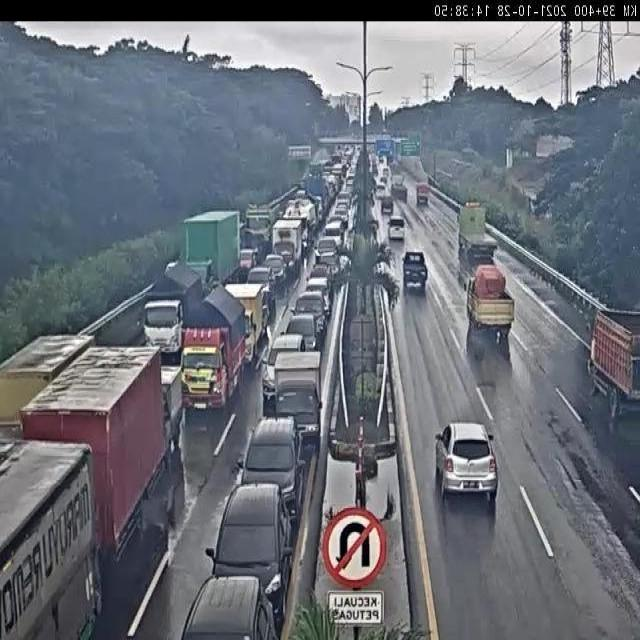Car: (206, 483, 295, 634), (237, 417, 304, 518), (179, 574, 281, 640), (434, 420, 498, 504), (259, 332, 307, 397), (284, 312, 320, 358), (294, 292, 327, 338), (246, 264, 276, 305), (305, 275, 332, 317), (264, 253, 288, 291), (314, 235, 338, 263), (316, 250, 338, 278), (324, 219, 344, 249), (238, 246, 260, 273), (306, 262, 332, 284), (332, 205, 350, 230), (380, 195, 394, 215), (337, 191, 351, 207), (374, 182, 386, 200), (296, 189, 308, 201)
Truck: (18, 343, 167, 565), (0, 436, 101, 640), (0, 329, 97, 439), (180, 285, 248, 411), (142, 264, 205, 361), (583, 308, 640, 414), (271, 348, 325, 447), (182, 210, 242, 286), (462, 263, 516, 337), (220, 279, 264, 365), (456, 199, 500, 260), (160, 360, 186, 457), (282, 197, 318, 253), (270, 220, 303, 276), (243, 202, 281, 243), (301, 175, 328, 222), (401, 250, 431, 288), (390, 172, 408, 200), (416, 183, 430, 206), (371, 162, 378, 175)
Van: (387, 216, 405, 241)
